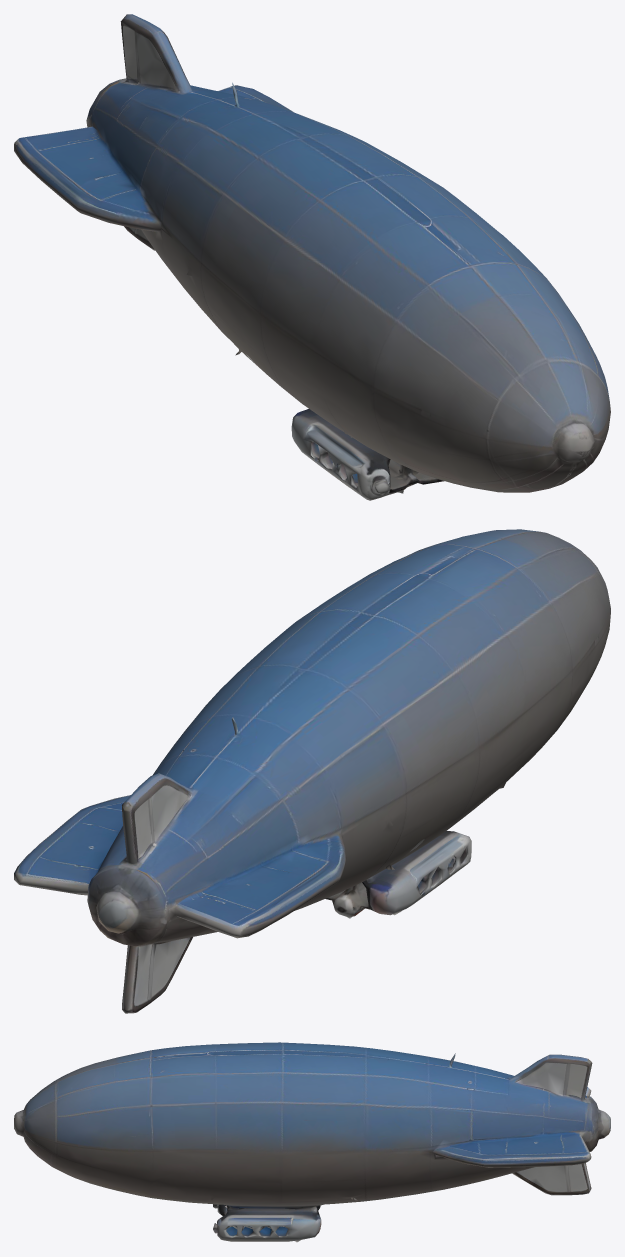
The model's file is blimp.glb.
3 views of the same model, one above another, from view 1: azimuth 30°, elevation 25°; view 2: azimuth 150°, elevation 25°; view 3: azimuth 270°, elevation 25° (orthographic). The views are drawn at different scales.
Visible parts, largest first — view 1: tripo_node_4ea5f037-7076-4a61-ae9f-a8011909cd74; view 2: tripo_node_4ea5f037-7076-4a61-ae9f-a8011909cd74; view 3: tripo_node_4ea5f037-7076-4a61-ae9f-a8011909cd74.
Part boxes in pixels (bbox=[...]): tripo_node_4ea5f037-7076-4a61-ae9f-a8011909cd74: bbox=[14, 14, 610, 500]; tripo_node_4ea5f037-7076-4a61-ae9f-a8011909cd74: bbox=[14, 529, 610, 1013]; tripo_node_4ea5f037-7076-4a61-ae9f-a8011909cd74: bbox=[14, 1042, 610, 1242].
Bounding box in the file's own units: 0.3211 × 0.3399 × 0.9993.
1 material, 1 textured.
